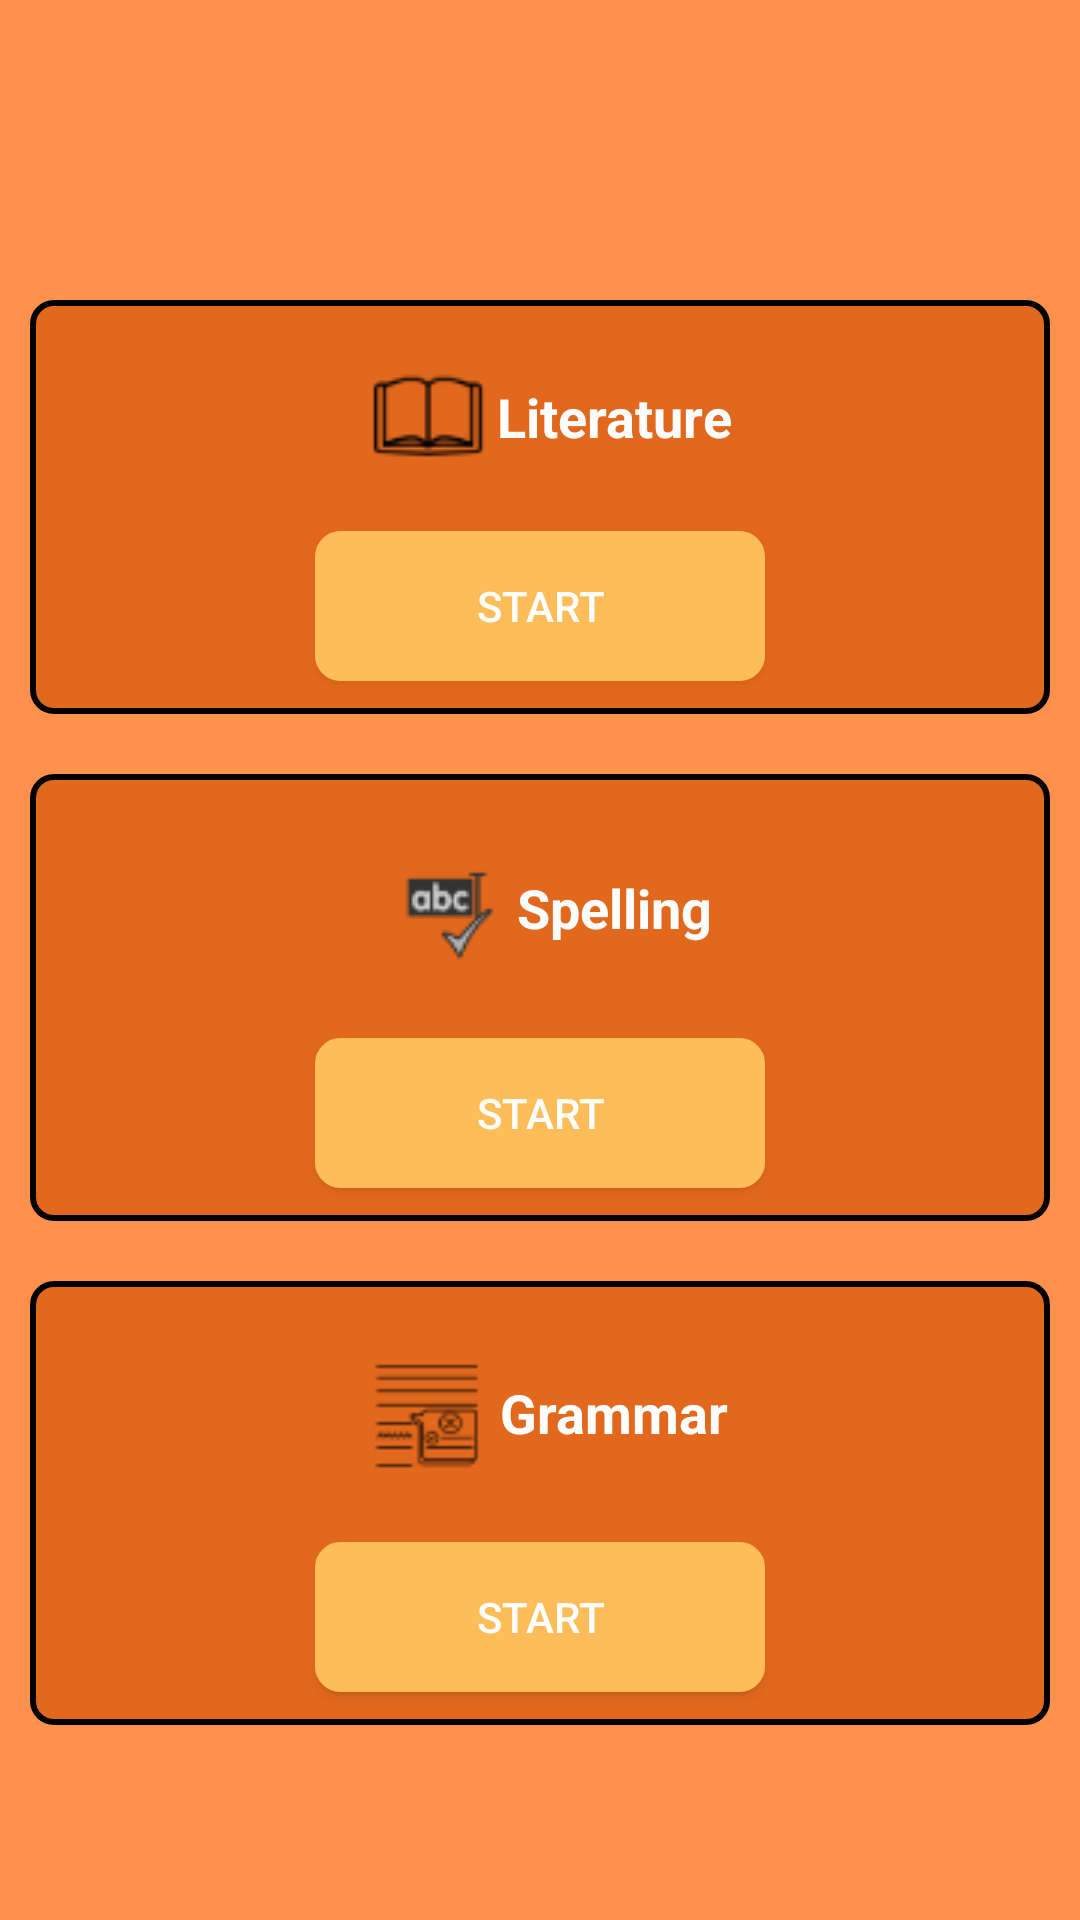

Locate icon controls on the screen. Image size 1080x1920, boxes as (x1, y1, x2, y2).
book: (373, 375, 483, 457)
